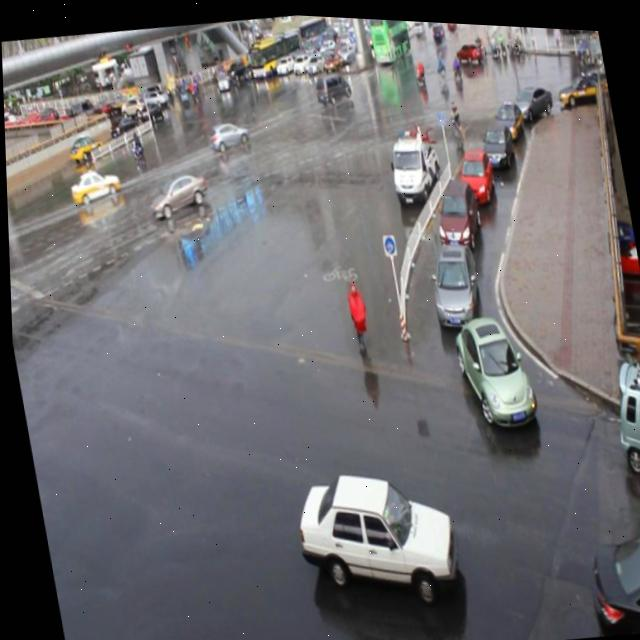bus: (382, 123, 444, 204)
car: (284, 451, 461, 612), (447, 306, 535, 425), (576, 517, 640, 633), (422, 232, 482, 323), (603, 348, 640, 479), (427, 171, 483, 247), (144, 168, 209, 221), (451, 141, 495, 200), (66, 163, 121, 205), (507, 74, 554, 119), (476, 115, 516, 166), (206, 115, 250, 151), (490, 94, 524, 137)
truck: (313, 67, 352, 102)
